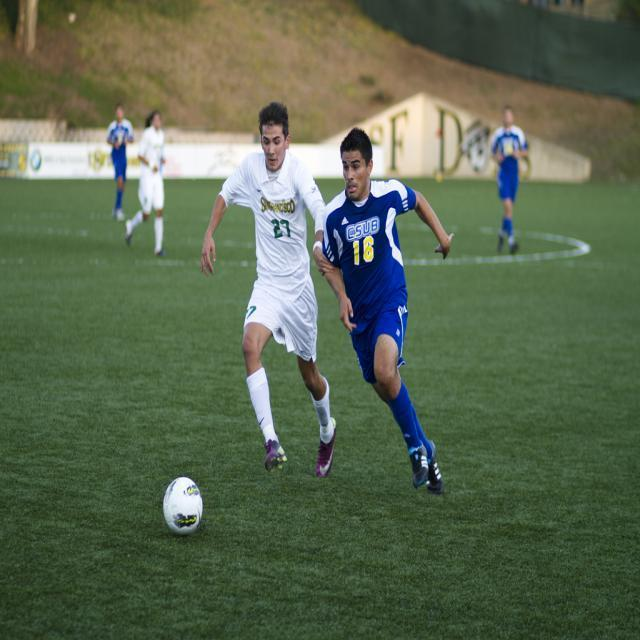football: (159, 468, 216, 554)
